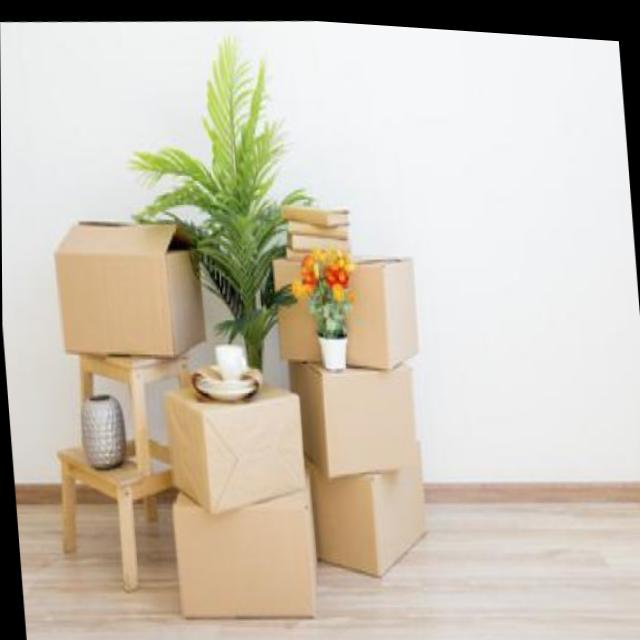box: (47, 202, 208, 379), (161, 475, 325, 635), (158, 364, 313, 523), (301, 439, 457, 588), (267, 237, 421, 375), (295, 350, 419, 483)
